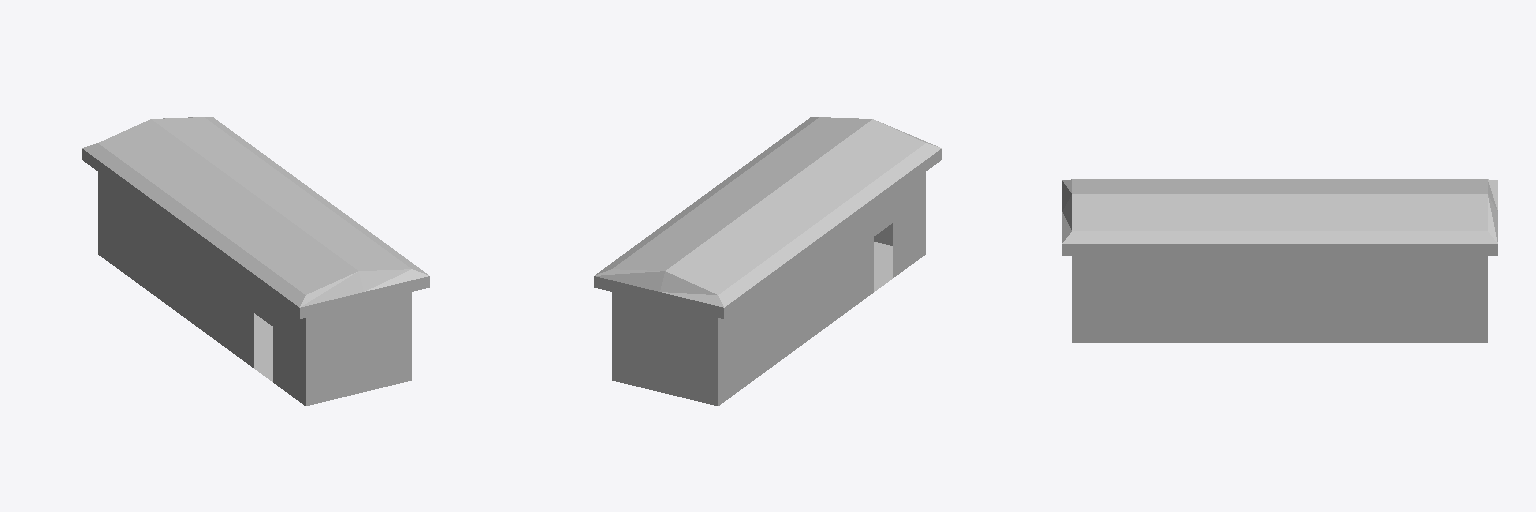
Rendered from Church_Temp.obj.
The picture shows the model from 3 angles: view 1: azimuth 30°, elevation 25°; view 2: azimuth 150°, elevation 25°; view 3: azimuth 270°, elevation 25°; orthographic projection.
Visible parts, largest first — view 1: Cube; view 2: Cube; view 3: Cube.
Part boxes in pixels (bbox=[...]): Cube: bbox=[82, 117, 429, 405]; Cube: bbox=[594, 117, 941, 405]; Cube: bbox=[1062, 179, 1497, 342].
Size of the model in its own units: 2.45 by 2.2 by 7.1.